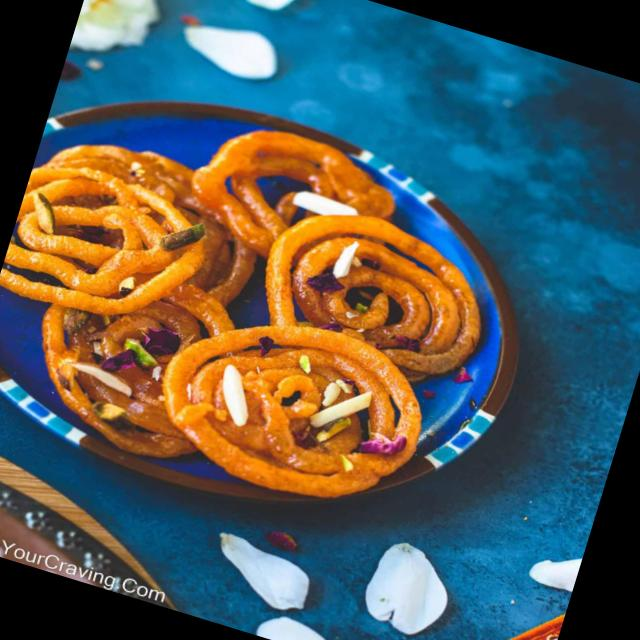jalebi: (0, 64, 527, 527)
